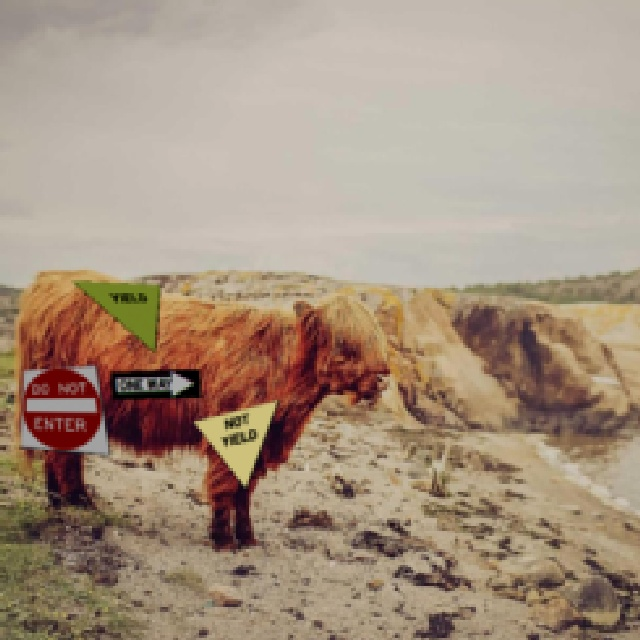DO_NOT_ENTER: (18, 363, 109, 454)
NOT_YIELD: (190, 397, 278, 488)
ONE_WAY_ right: (108, 367, 199, 398)
YIELD: (68, 278, 159, 352)
